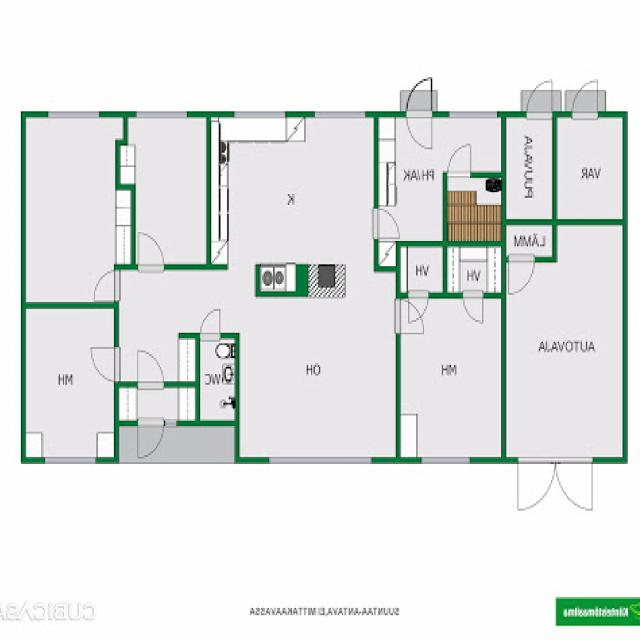door: (518, 458, 555, 512), (555, 458, 591, 512), (508, 256, 534, 298), (138, 420, 164, 461), (138, 347, 164, 388), (572, 78, 598, 118), (526, 78, 552, 118), (407, 112, 432, 152), (407, 78, 432, 118), (90, 346, 120, 379), (139, 231, 164, 270), (396, 300, 425, 332), (420, 127, 448, 158), (374, 208, 401, 238), (448, 143, 471, 178), (94, 271, 120, 300), (582, 219, 603, 253), (419, 214, 439, 247), (463, 293, 483, 325), (201, 307, 220, 338)
